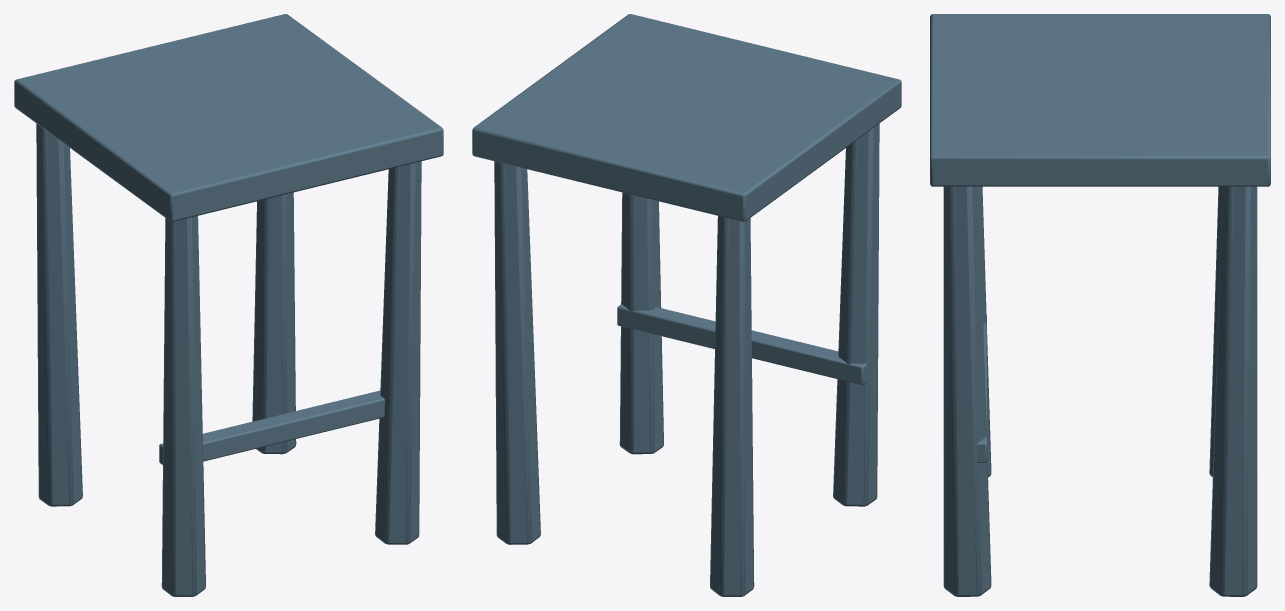
The model's file is GheDau.glb.
3 views of the same model, side by side, from view 1: azimuth 30°, elevation 25°; view 2: azimuth 150°, elevation 25°; view 3: azimuth 270°, elevation 25° (orthographic). The views are drawn at different scales.
Parts seen in each view (by area): view 1: GheDau; view 2: GheDau; view 3: GheDau.
Boxes of the visible parts, x1,y1,x2,y2 form: GheDau: (14,14,443,596); GheDau: (472,14,901,596); GheDau: (930,14,1270,596).
Bounding box in the file's own units: 0.3 × 0.4353 × 0.3.
